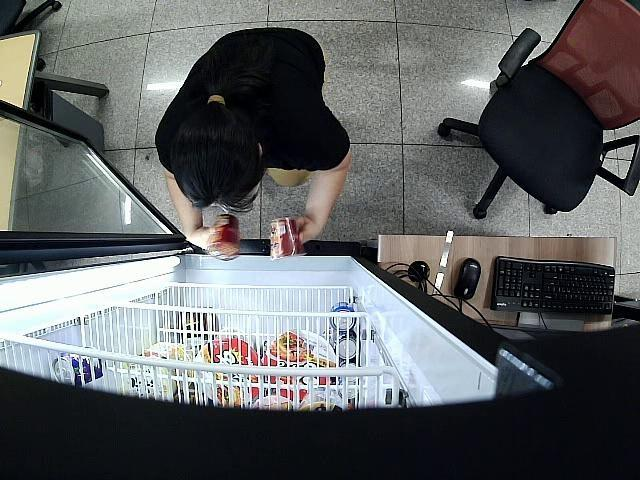06_nuguri_S: (267, 213, 301, 261), (209, 216, 243, 262)
